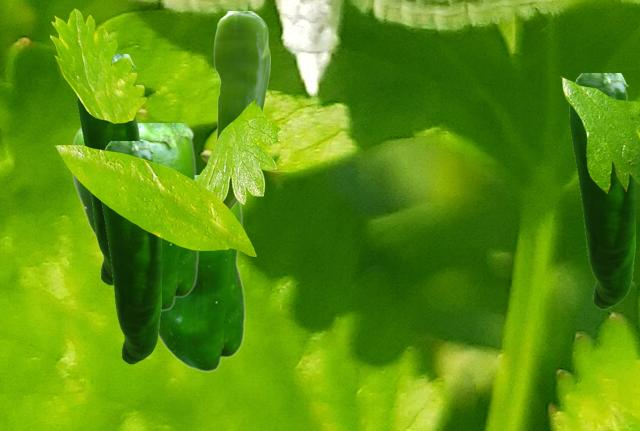green_chili: (70, 123, 197, 310), (159, 175, 244, 371), (569, 73, 634, 308), (77, 54, 141, 284), (101, 141, 160, 363), (213, 11, 269, 210)
